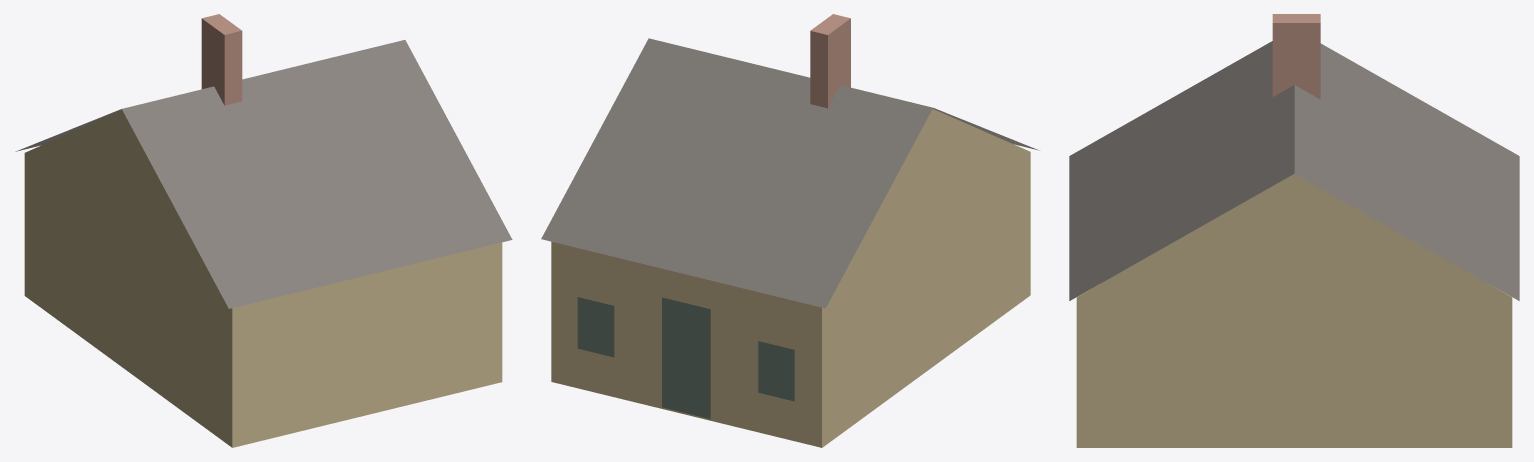
Rendered from recon_1835_north_d3_006__recommended_1835.glb.
3 views of the same model, side by side, from view 1: azimuth 30°, elevation 25°; view 2: azimuth 150°, elevation 25°; view 3: azimuth 270°, elevation 25° (orthographic). The views are drawn at different scales.
Parts seen in each view (by area): view 1: recon_1835_north_d3_006__recommended_1835; view 2: recon_1835_north_d3_006__recommended_1835; view 3: recon_1835_north_d3_006__recommended_1835.
Boxes of the visible parts, x1,y1,x2,y2 form: recon_1835_north_d3_006__recommended_1835: (15, 14, 512, 447); recon_1835_north_d3_006__recommended_1835: (541, 14, 1039, 447); recon_1835_north_d3_006__recommended_1835: (1069, 14, 1519, 447).
Bounding box in the file's own units: 5.77 × 6.29 × 7.55.
